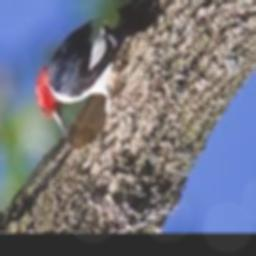Woodpecker: (36, 0, 161, 138)
